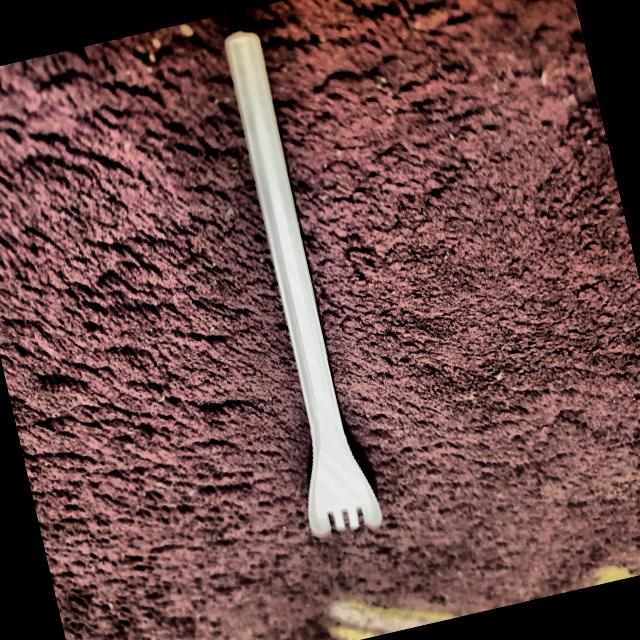plastic utensil: (195, 20, 395, 547)
